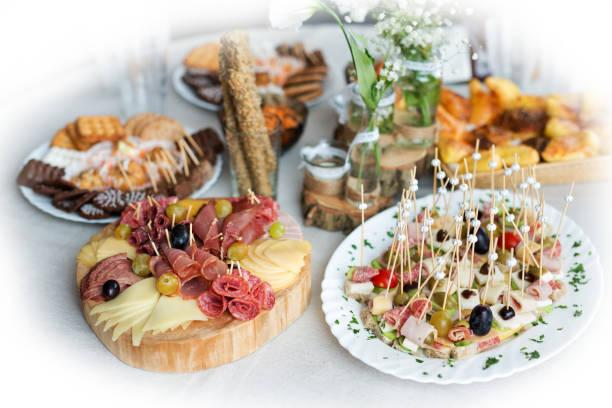Braised Crucian Carp: (318, 191, 599, 386), (17, 111, 229, 228)
